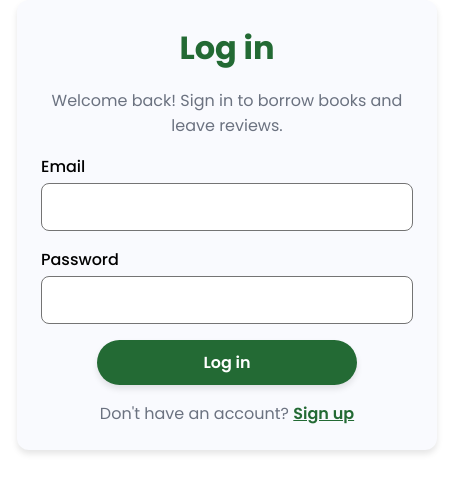
Test: LoginPage (integration) › shows an "invalid email" error for a malformed email
The width and height of the screenshot is (455, 497).
Type "notanemail" into the field labelled "Email" at (227, 207), box [41,183,413,231]
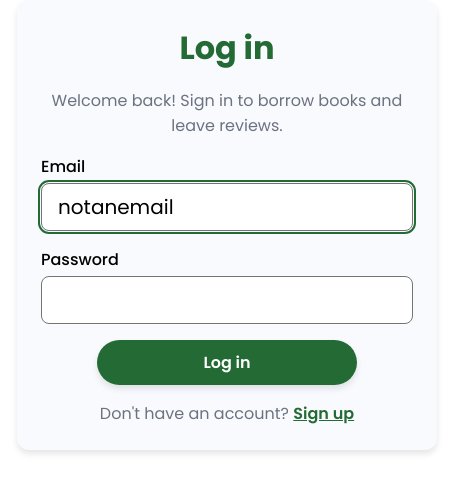
Type "secret" into the password field labelled "Password" at (227, 300), box [41,276,413,324]
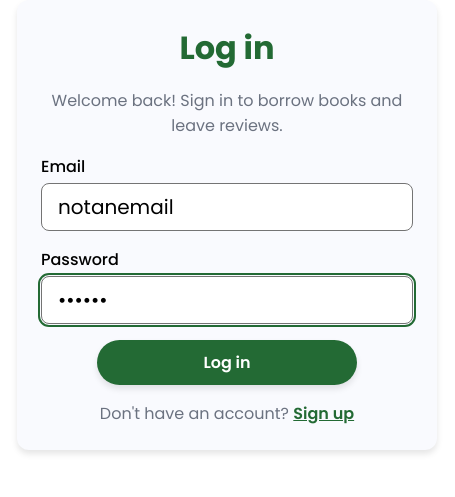
Click the button "Log in" at (227, 362), box [97,340,357,385]
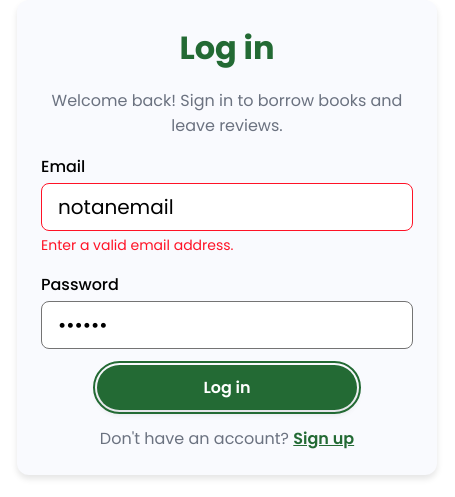
expect the text "Enter a valid email address." is shown: met, box [41,235,234,255]
